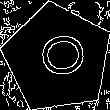O_W: (29, 33, 86, 83)
